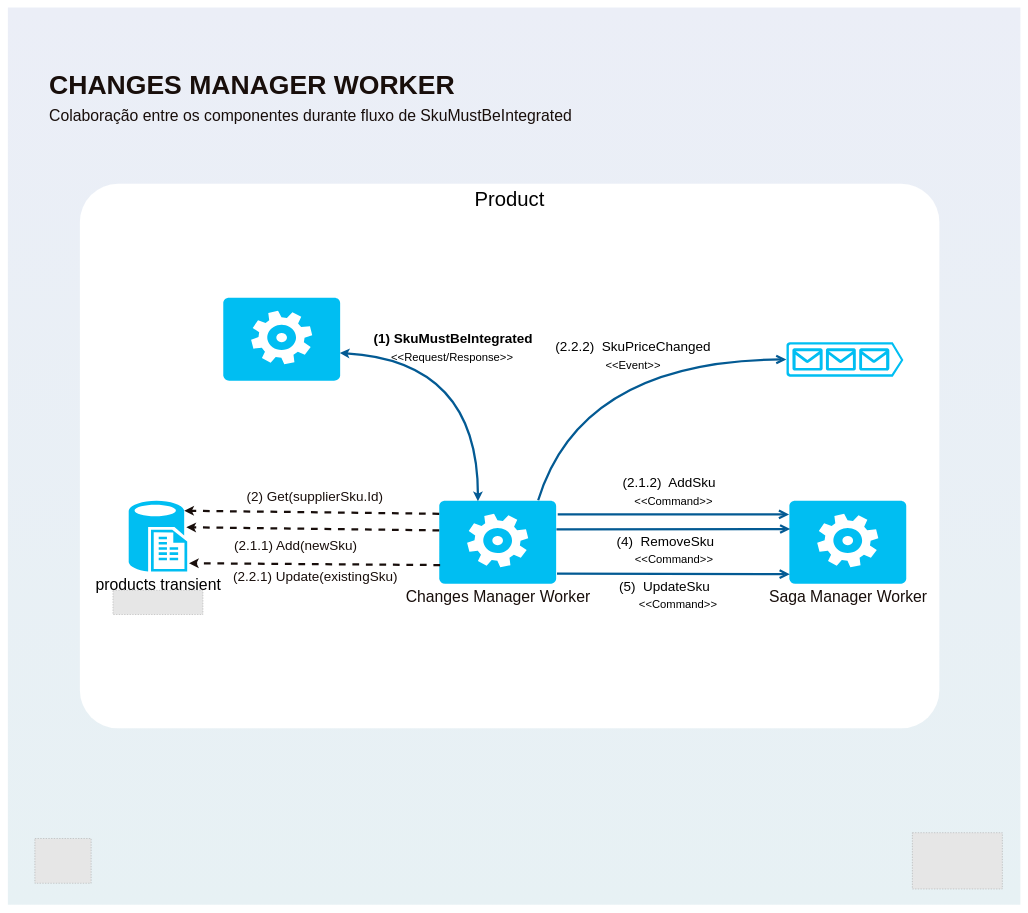
This 1028x913 diagram has some shape labels left out. Grey dashed boxes stand in for pictures. The shapes that lost their labels are listed below. From the top down, each one's centre as x and y in pixels, then its label:
At [281,339]: "Supplier Import Worker".
At [844,359]: "price changed event".
